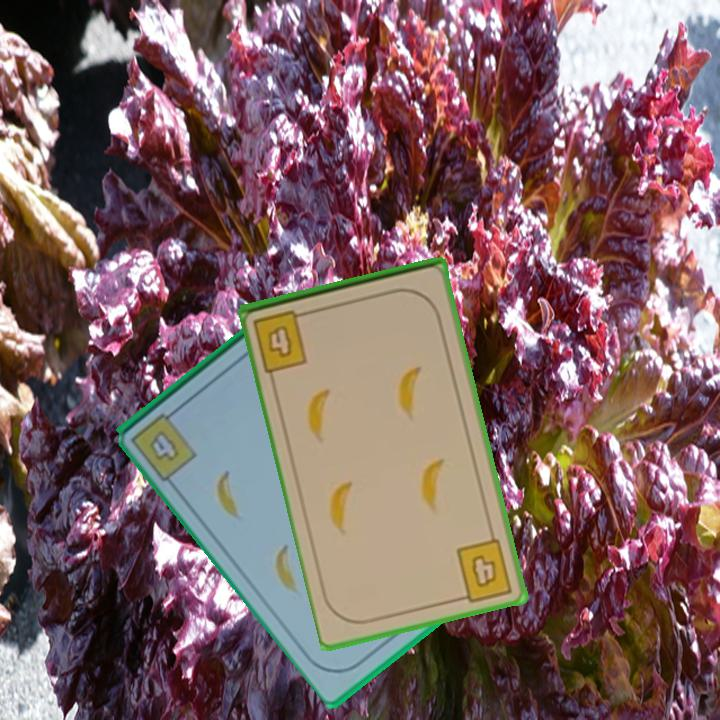4b: (127, 402, 201, 484), (250, 306, 315, 375), (453, 535, 516, 605)
